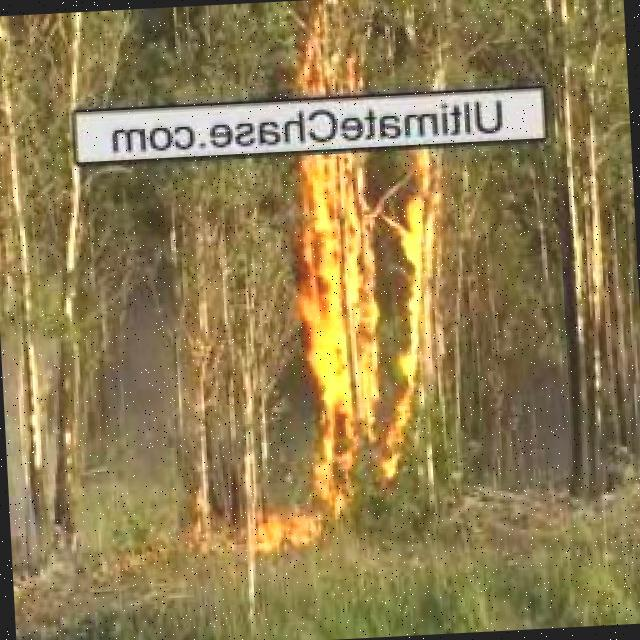Fire: (278, 148, 459, 502), (532, 123, 619, 424), (260, 20, 385, 105), (244, 526, 337, 553)
